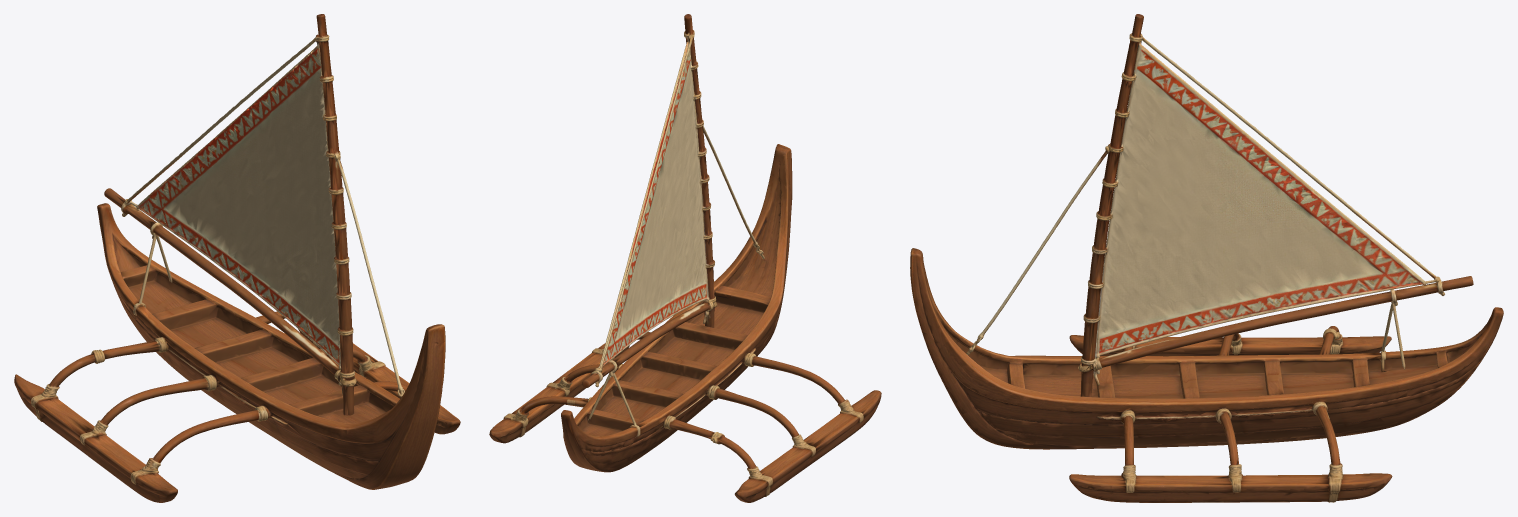
The model's file is canoe-open.glb.
The picture shows the model from 3 angles, left to right: view 1: azimuth 30°, elevation 25°; view 2: azimuth 150°, elevation 25°; view 3: azimuth 270°, elevation 25°; orthographic projection. The views are drawn at different scales.
Visible parts, largest first — view 1: tripo_node_3b9221b5-8b96-48dc-a82a-c4dd9e4d3f80; view 2: tripo_node_3b9221b5-8b96-48dc-a82a-c4dd9e4d3f80; view 3: tripo_node_3b9221b5-8b96-48dc-a82a-c4dd9e4d3f80.
Boxes of the visible parts, left/top/right/bottom form: tripo_node_3b9221b5-8b96-48dc-a82a-c4dd9e4d3f80: left=14, top=14, right=460, bottom=502; tripo_node_3b9221b5-8b96-48dc-a82a-c4dd9e4d3f80: left=489, top=14, right=881, bottom=502; tripo_node_3b9221b5-8b96-48dc-a82a-c4dd9e4d3f80: left=910, top=14, right=1503, bottom=502.
Size of the model in its own units: 0.5884 by 0.7954 by 0.9794.
1 material, 1 textured.
